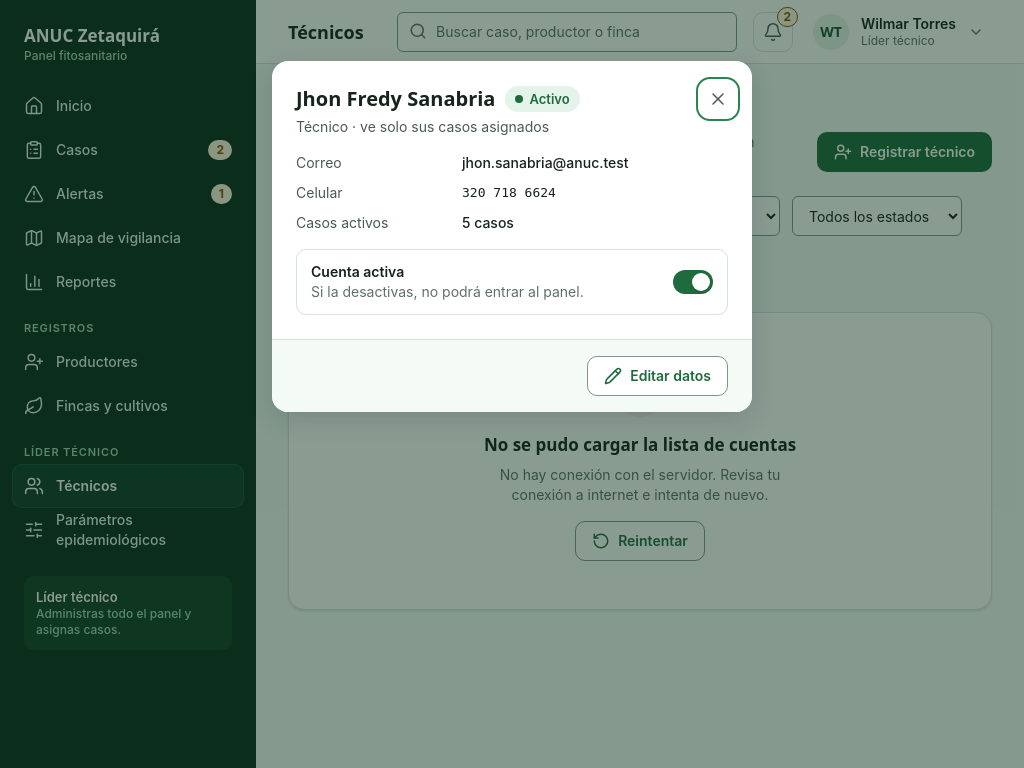
Test: Técnicos (cuentas del panel) › edita los datos de un técnico
Click the button "Editar datos" at (658, 376), box 587,356 -> 728,396
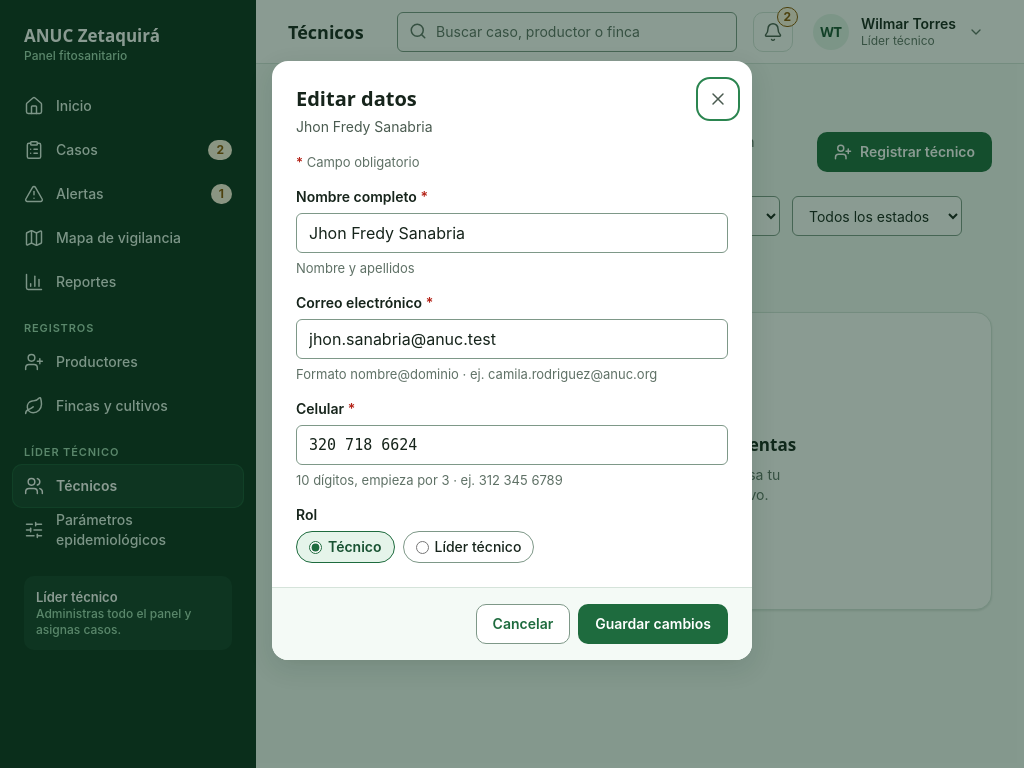
Check: the field labelled "Celular *" holds "320 718 6624"
Replace the text in the field labelled "Celular *" with "320 718 6625" at (512, 445), box 296,425 -> 728,465
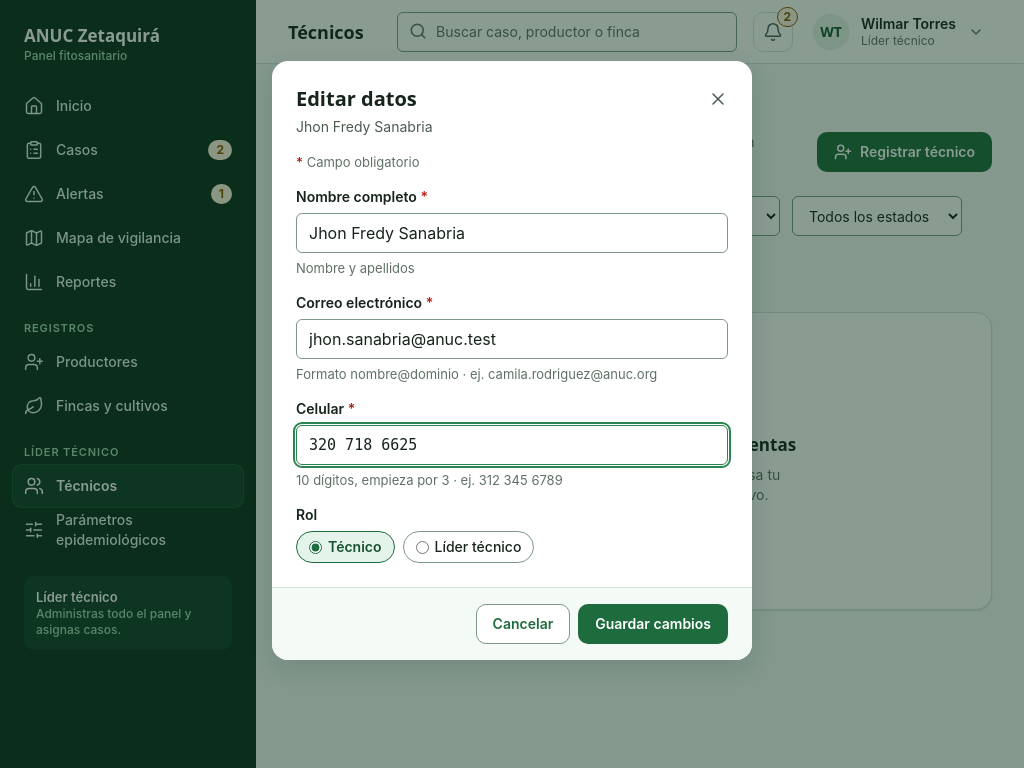
Click the button "Guardar cambios" at (653, 624), box 578,604 -> 728,644
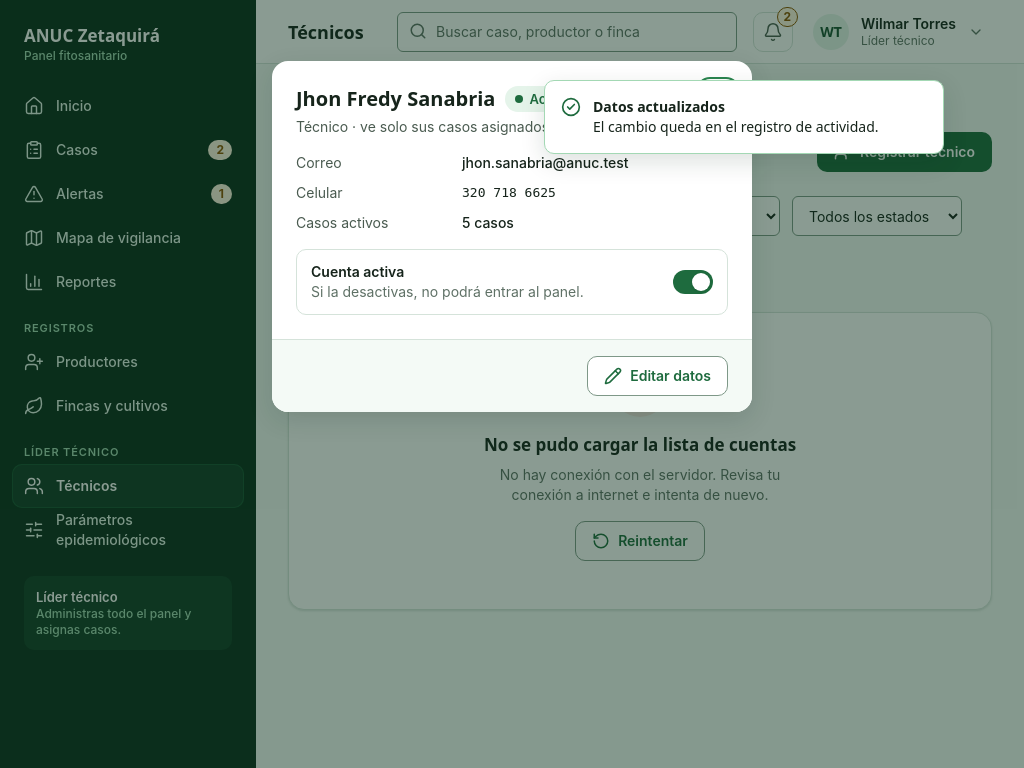
Check: the text "Datos actualizados" is shown, box 593,97 -> 725,116
